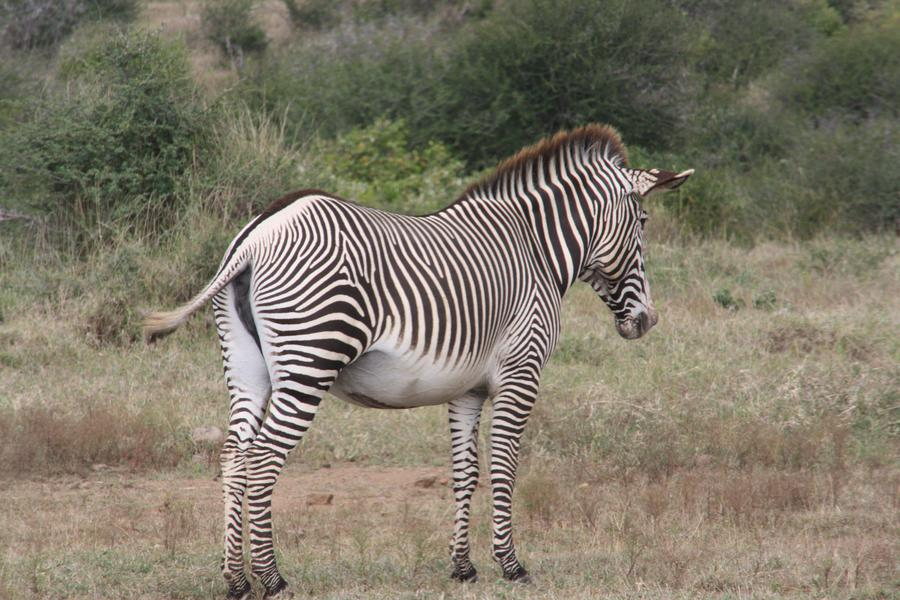zebra_grevys: (244, 184, 549, 381)
